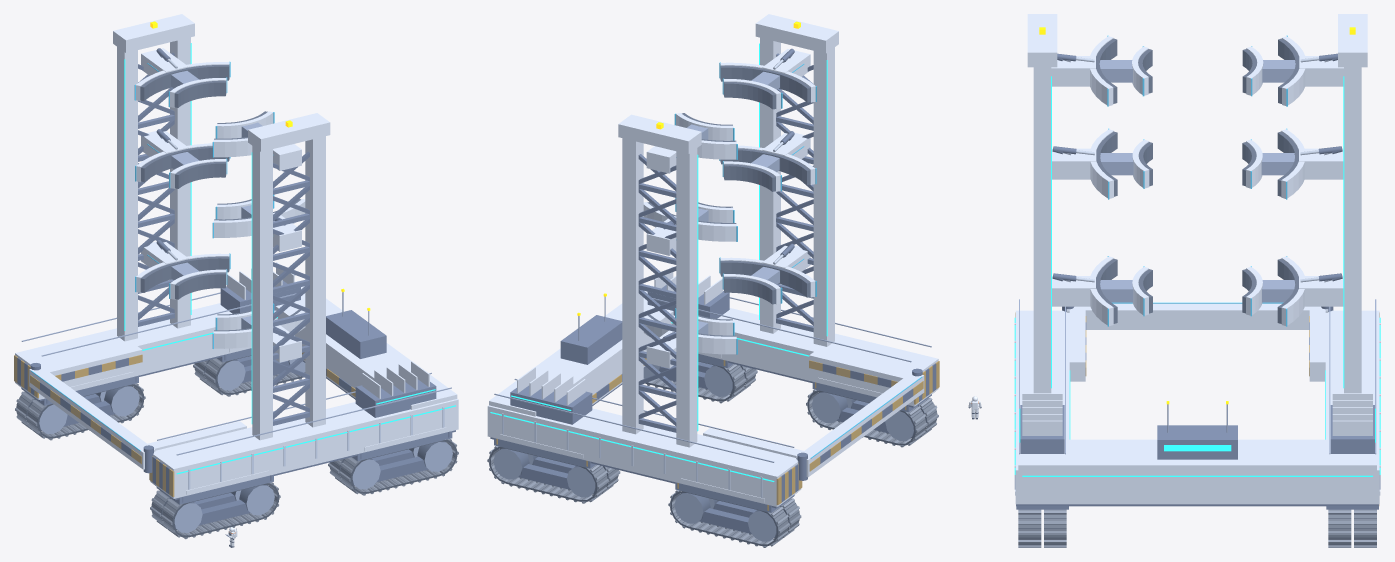
The model's file is st10a_game.glb.
3 views of the same model, side by side, from view 1: azimuth 30°, elevation 25°; view 2: azimuth 150°, elevation 25°; view 3: azimuth 270°, elevation 25° (orthographic). The views are drawn at different scales.
Parts seen in each view (by area): view 1: Body_Paint, Cradle_Loaded, Cradle_Empty, Body_GlowCyan; view 2: Body_Paint, Cradle_Loaded, Cradle_Empty, Body_GlowCyan; view 3: Body_Paint, Cradle_Loaded, Cradle_Empty, Body_GlowCyan.
Boxes of the visible parts, x1,y1,x2,y2 form: Body_Paint: (14,14,458,539); Cradle_Loaded: (29,48,301,473); Cradle_Empty: (43,49,305,450); Body_GlowCyan: (124,43,455,474); Body_Paint: (487,14,939,547); Cradle_Loaded: (646,48,924,480); Cradle_Empty: (643,49,914,457); Body_GlowCyan: (490,43,827,481); Body_Paint: (1014,14,1380,547); Cradle_Loaded: (1051,46,1343,329); Cradle_Empty: (1051,35,1343,381); Body_GlowCyan: (1014,76,1380,476).
Bounding box in the file's own units: 29 × 35.9 × 30.55.
